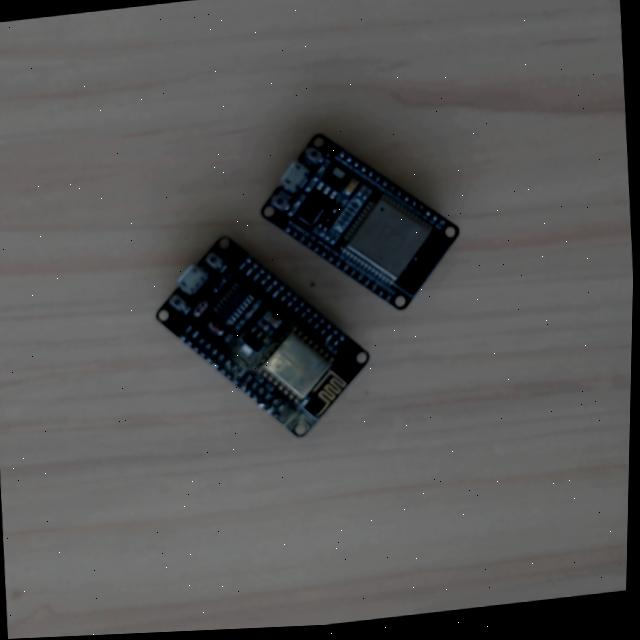ESP32-DevKit: (256, 129, 461, 313)
ESP8266-NodeMCU: (148, 228, 373, 441), (256, 129, 461, 314)
